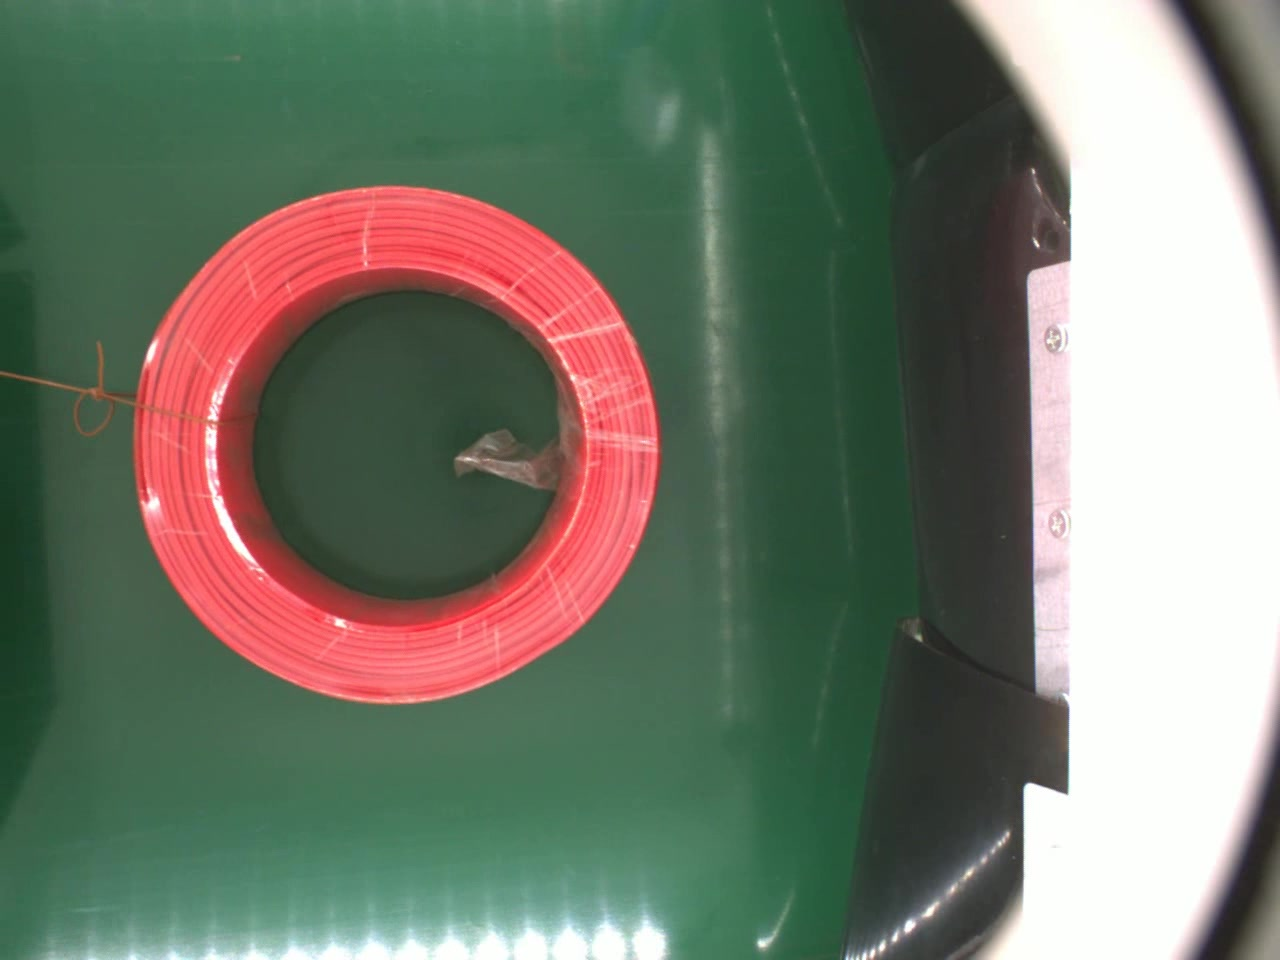red: (131, 179, 665, 706)
